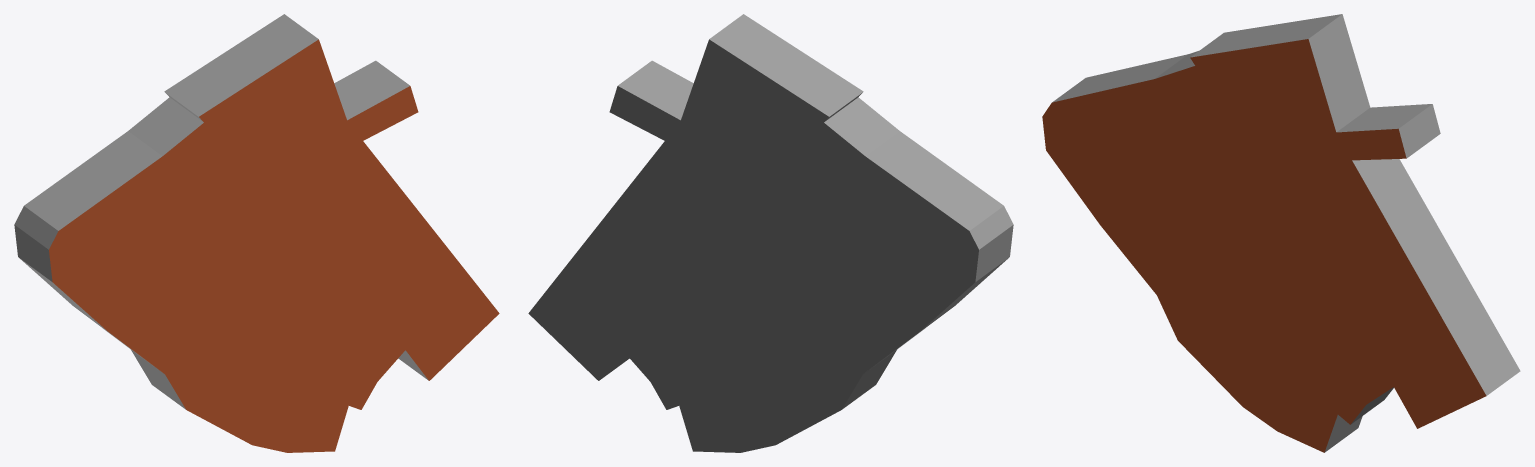
Rendered from construction_3140_assumed_A_Casa_h6m.obj.
3 renders of one model, left to right at view 1: azimuth 30°, elevation 25°; view 2: azimuth 150°, elevation 25°; view 3: azimuth 330°, elevation 25°, orthographic.
Parts seen in each view (by area): view 1: construction_3140_assumed_A_Casa; view 2: construction_3140_assumed_A_Casa; view 3: construction_3140_assumed_A_Casa.
Part boxes in pixels (x1=…): construction_3140_assumed_A_Casa: x1=14, y1=14, x2=499, y2=452; construction_3140_assumed_A_Casa: x1=528, y1=14, x2=1013, y2=452; construction_3140_assumed_A_Casa: x1=1042, y1=14, x2=1520, y2=452.
Bounding box in the file's own units: 45.19 × 39.87 × 6.
